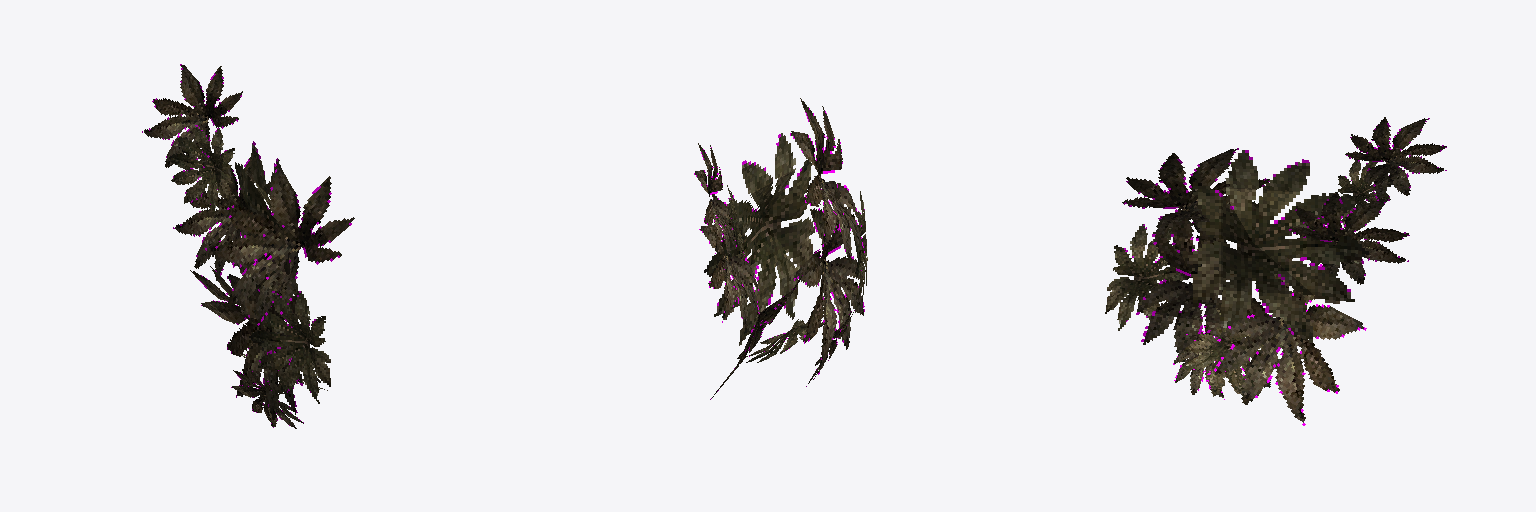
3 views of the same model, side by side, from view 1: azimuth 30°, elevation 25°; view 2: azimuth 150°, elevation 25°; view 3: azimuth 270°, elevation 25° (orthographic).
Visible parts, largest first — view 1: tdr_tlv_wallplant_a; view 2: tdr_tlv_wallplant_a; view 3: tdr_tlv_wallplant_a.
Boxes of the visible parts, box(x1,y1,x2,y2) form: tdr_tlv_wallplant_a: box(142, 64, 354, 428); tdr_tlv_wallplant_a: box(694, 98, 867, 399); tdr_tlv_wallplant_a: box(1105, 117, 1446, 425).
Bounding box in the file's own units: 746 × 1966 × 1969.
Materials: 1 (1 with a texture image).